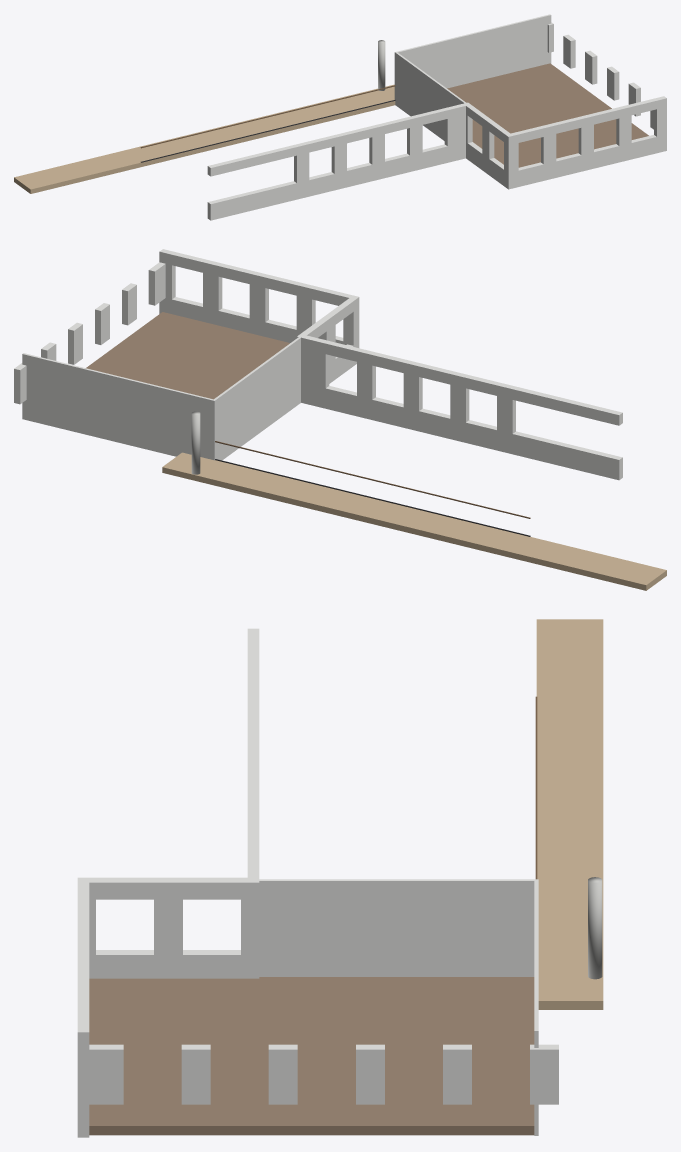
The model's file is SM_Bygg_Helgasetr_P3_O_S.fbx.
3 views of the same model, one above another, from view 1: azimuth 30°, elevation 25°; view 2: azimuth 150°, elevation 25°; view 3: azimuth 270°, elevation 25° (orthographic). The views are drawn at different scales.
Parts seen in each view (by area): view 1: SM_Bygg_Helgasetr_P3_O_S; view 2: SM_Bygg_Helgasetr_P3_O_S; view 3: SM_Bygg_Helgasetr_P3_O_S.
Boxes of the visible parts, left/top/right/bottom form: SM_Bygg_Helgasetr_P3_O_S: left=14, top=14, right=666, bottom=220; SM_Bygg_Helgasetr_P3_O_S: left=14, top=249, right=666, bottom=590; SM_Bygg_Helgasetr_P3_O_S: left=77, top=619, right=603, bottom=1137.
Bounding box in the file's own units: 18.11 × 41.5 × 4.
